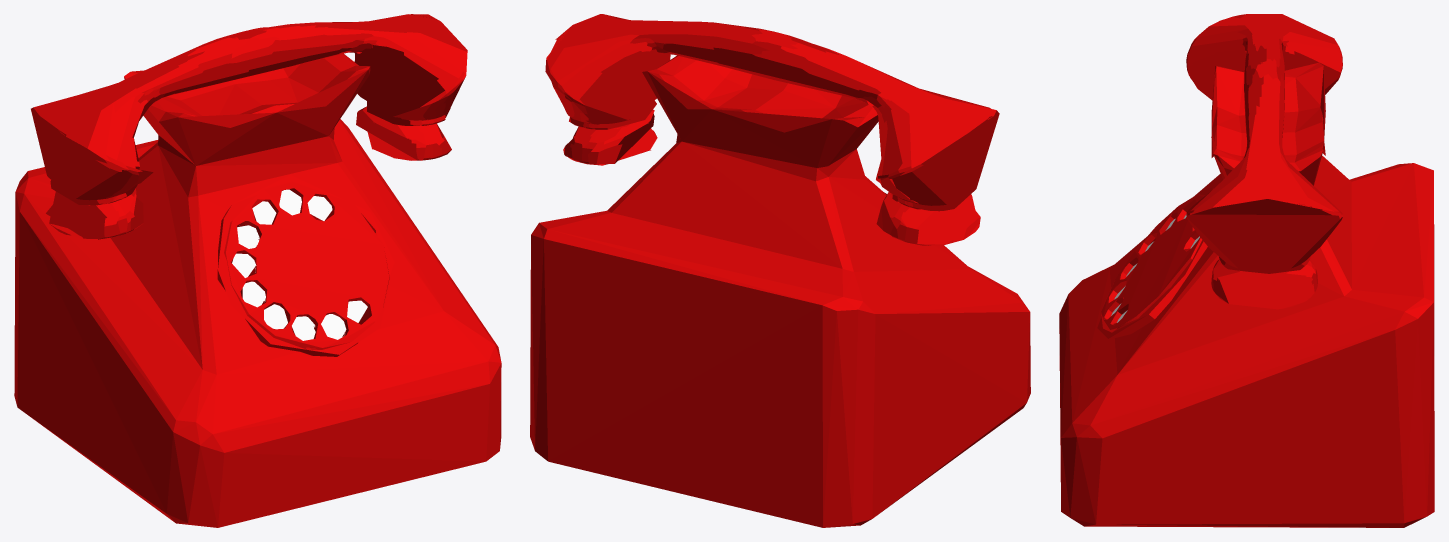
Rendered from telephone.gltf.
3 views of the same model, side by side, from view 1: azimuth 30°, elevation 25°; view 2: azimuth 150°, elevation 25°; view 3: azimuth 270°, elevation 25° (orthographic). The views are drawn at different scales.
Parts seen in each view (by area): view 1: telephone; view 2: telephone; view 3: telephone.
Boxes of the visible parts, <box> form: telephone: <box>14,14,501,527</box>; telephone: <box>530,14,1030,527</box>; telephone: <box>1059,14,1434,527</box>.
Bounding box in the file's own units: 0.3356 × 0.3146 × 0.2805.
